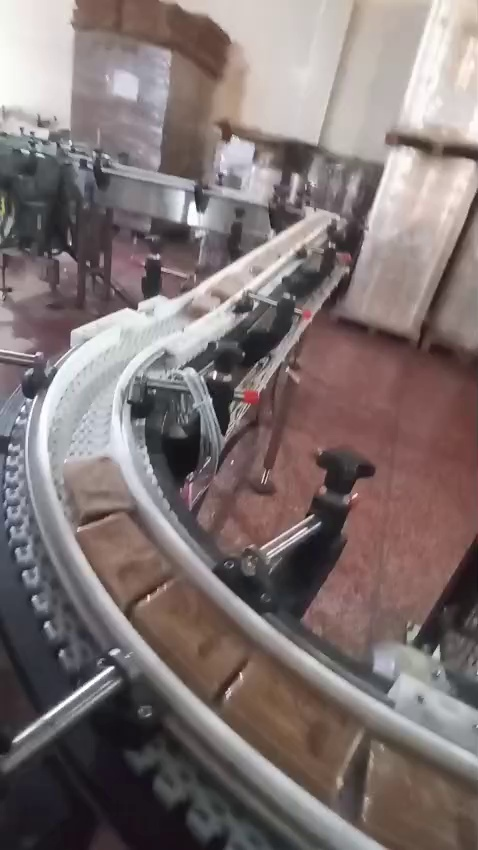savon: (115, 592, 478, 850), (172, 65, 246, 172), (164, 0, 207, 24), (412, 137, 448, 159)
